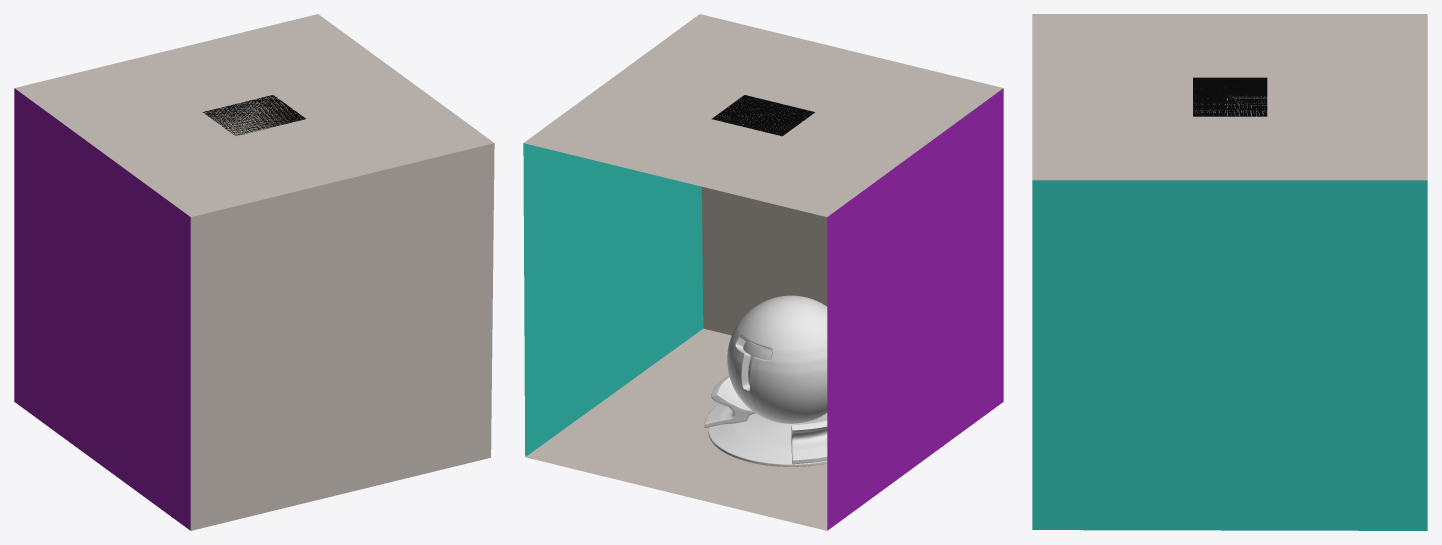
File: cornell-box.obj
The picture shows the model from 3 angles, left to right: view 1: azimuth 30°, elevation 25°; view 2: azimuth 150°, elevation 25°; view 3: azimuth 270°, elevation 25°; orthographic projection. The views are drawn at different scales.
Size of the model in its own units: 556 by 549 by 559.
